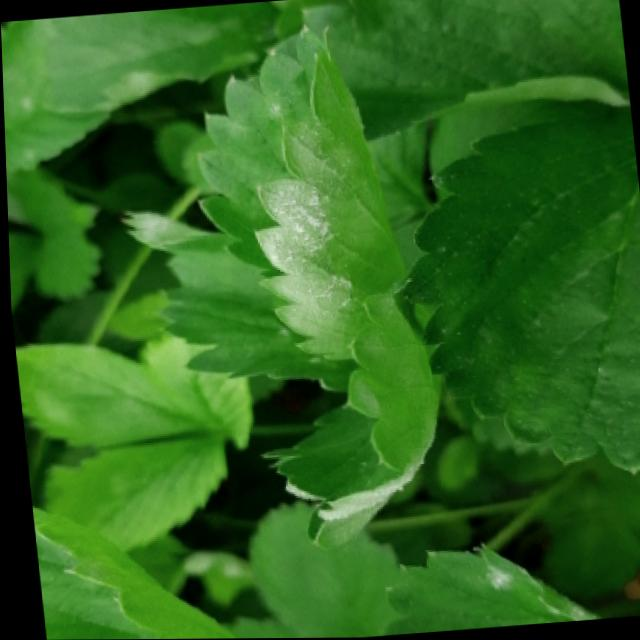Powdery Mildew Leaf: (194, 22, 402, 364), (256, 291, 435, 547), (118, 208, 351, 394), (372, 540, 604, 636)
